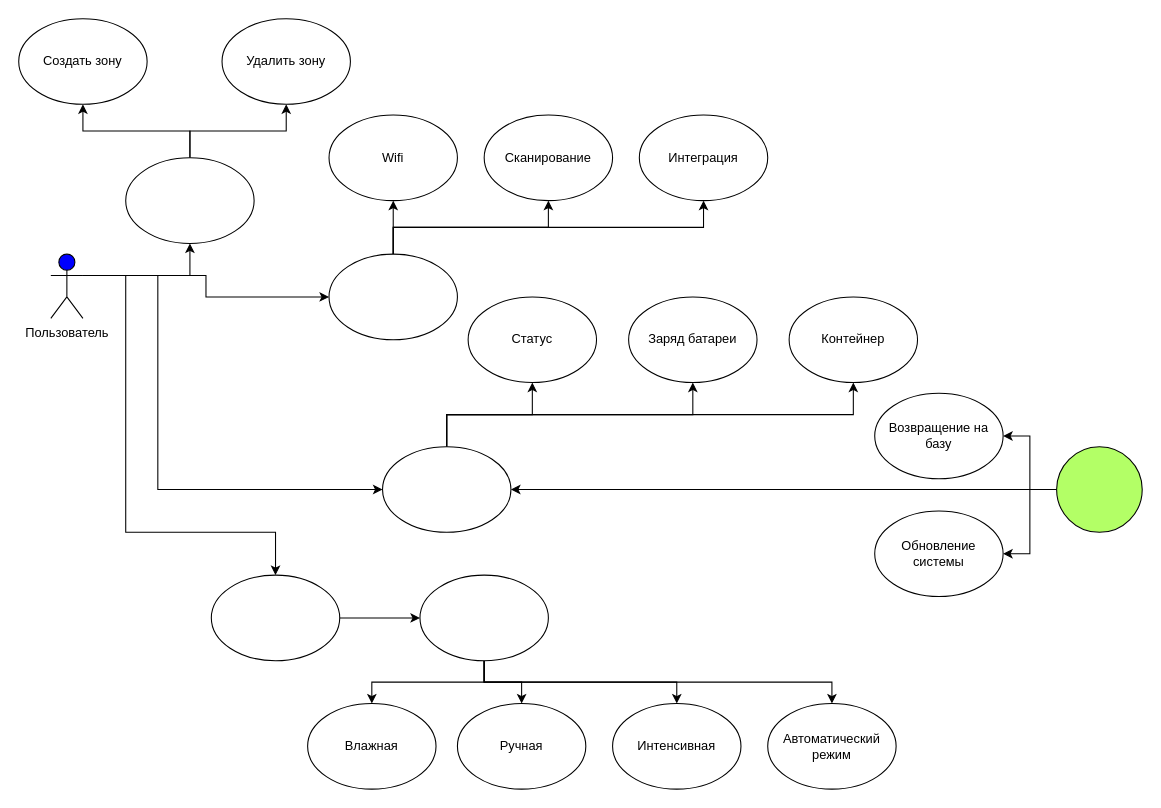
This 1161x808 diagram has some shape labels left out. Each missing label, with the centre of its shape:
Настройки: point (392, 296)
РОБОТ: point (1099, 489)
Состояние: point (446, 489)
Схема помещения: point (189, 200)
Уборка: point (483, 617)
Управление: point (275, 617)
